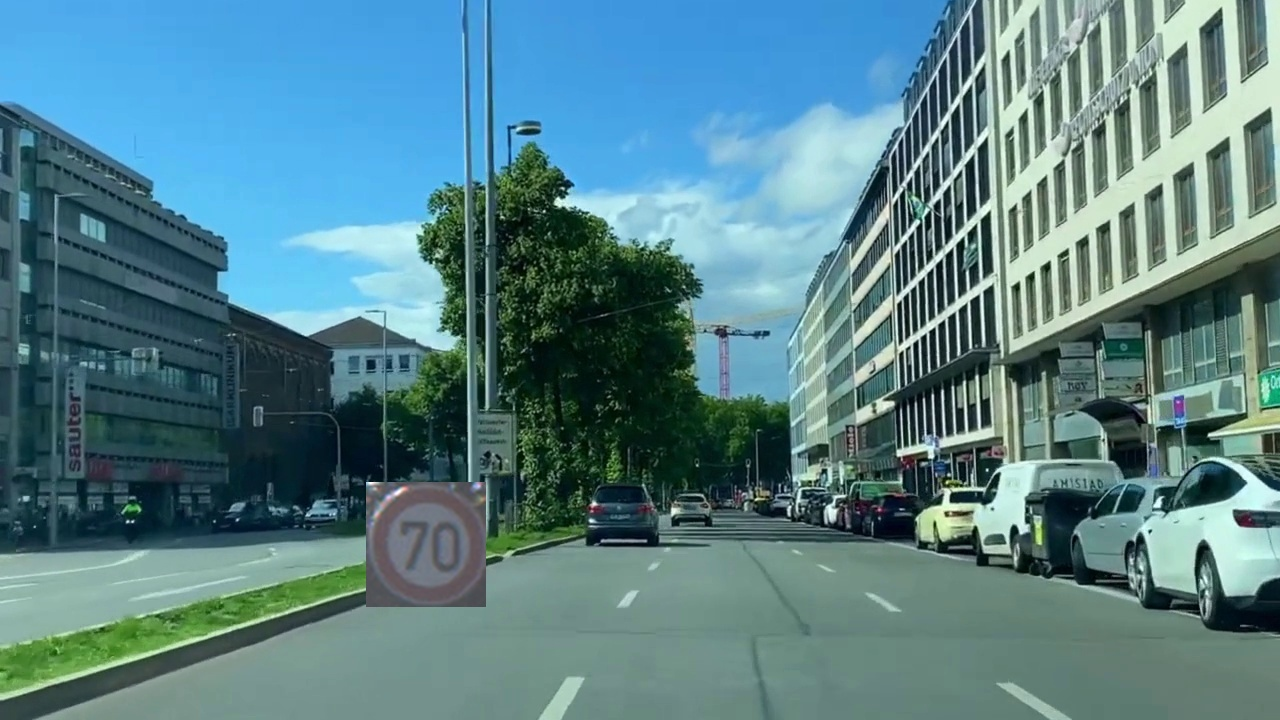Speed 70: (366, 482, 486, 607)
